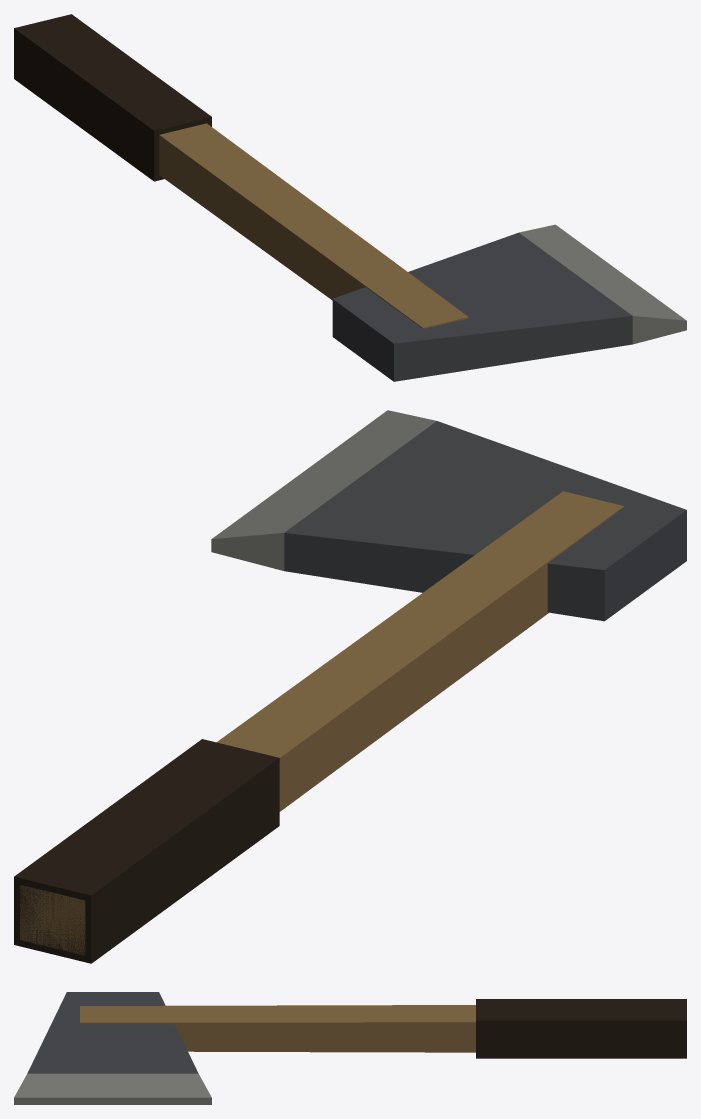
The model's file is weapon_hatchet.glb.
3 views of the same model, one above another, from view 1: azimuth 30°, elevation 25°; view 2: azimuth 150°, elevation 25°; view 3: azimuth 270°, elevation 25° (orthographic). The views are drawn at different scales.
Parts seen in each view (by area): view 1: weapon_hatchet; view 2: weapon_hatchet; view 3: weapon_hatchet.
Boxes of the visible parts, box(x1,y1,x2,y2) form: weapon_hatchet: box(14, 14, 686, 381); weapon_hatchet: box(14, 410, 686, 963); weapon_hatchet: box(14, 992, 686, 1104).
Size of the model in its own units: 0.17 by 0.032 by 0.51.
